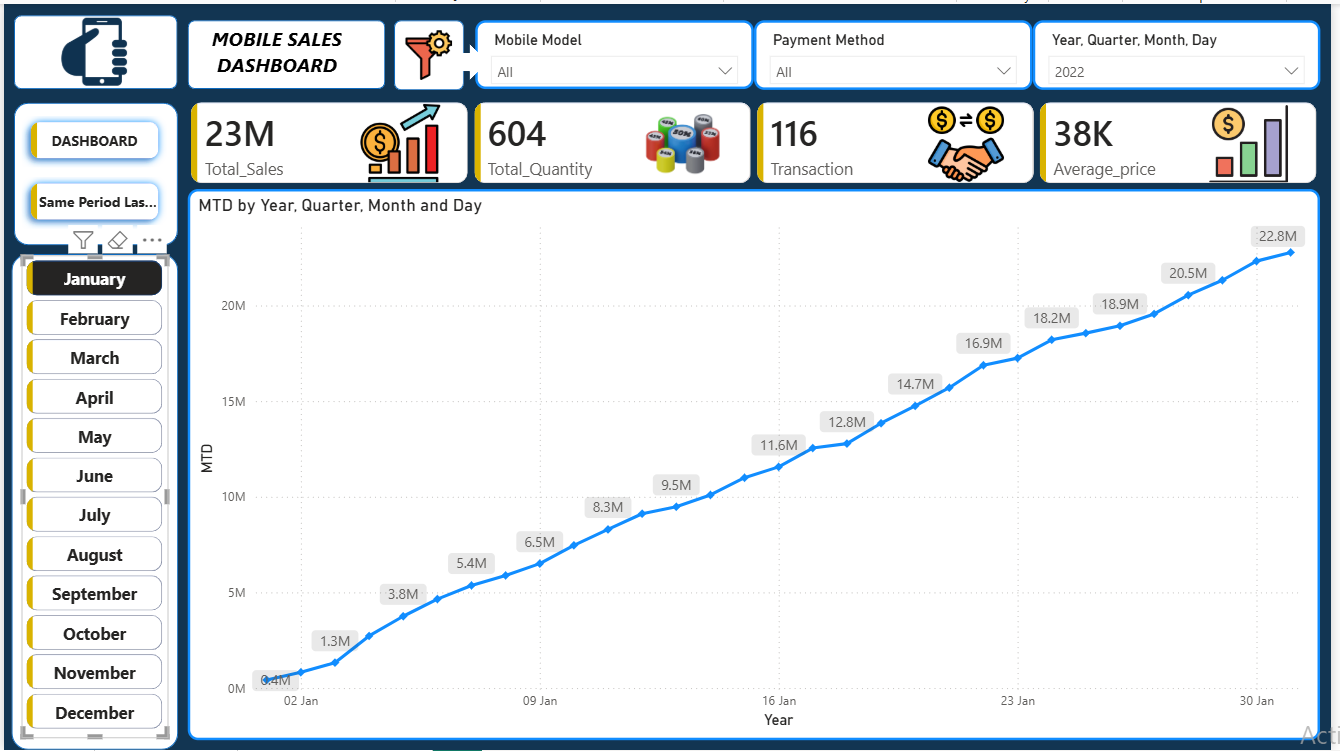

The page's visual inventory and layout, read from the dashboard file:
{"tool":"powerbi","page":{"name":"MTD REPORT","canvas":[1280,720],"ordinal":1},"visuals":[{"type":"shape","box":[9.6,11,157.8,71.4],"z":0},{"type":"image","box":[52.1,13.7,70,65.9],"z":1000},{"type":"shape","box":[9.6,94.9,158.1,137.5],"z":2000},{"type":"cardVisual","fields":{"Data":["Mobile_Sales_Data.Total_Sales","Mobile_Sales_Data.Total_Quantity","Mobile_Sales_Data.Transaction","Mobile_Sales_Data.Average_price"]},"box":[167.7,82,1112.3,105],"z":5000},{"type":"slicer","fields":{"Values":["Mobile_Sales_Data.Mobile Model"]},"box":[454.8,15.7,269,66.4],"z":6000},{"type":"slicer","fields":{"Values":["Mobile_Sales_Data.Payment Method"]},"box":[723.9,15.7,269,67.6],"z":7000},{"type":"slicer","fields":{"Values":["custom_calender.Date.Variation.Date Hierarchy.Year","custom_calender.Date.Variation.Date Hierarchy.Quarter","custom_calender.Date.Variation.Date Hierarchy.Month","custom_calender.Date.Variation.Date Hierarchy.Day"]},"box":[992.9,15.7,277.5,67.6],"z":8000},{"type":"shape","box":[376.4,15.7,67.6,67.6],"z":9000},{"type":"image","box":[376.4,25.3,67.6,48.3],"z":10000},{"type":"shape","box":[428.3,38.6,38.6,35],"z":11000},{"type":"shape","box":[177.3,15.7,190.6,66.4],"z":12000},{"type":"textbox","box":[195.4,15.7,172.5,63.9],"z":13000},{"type":"lineChart","fields":{"Category":["custom_calender.Date.Variation.Date Hierarchy.Year","custom_calender.Date.Variation.Date Hierarchy.Quarter","custom_calender.Date.Variation.Date Hierarchy.Month","custom_calender.Date.Variation.Date Hierarchy.Day"],"Y":["Mobile_Sales_Data.MTD"]},"box":[177.3,178.6,1093,532],"z":13001},{"type":"shape","box":[6.9,241.4,160.9,478.6],"z":13002},{"type":"advancedSlicerVisual","fields":{"Values":["custom_calender.Date.Variation.Date Hierarchy.Month"]},"box":[16.5,242,141.6,466.2],"z":13003},{"type":"pageNavigator","box":[16.9,105,141.2,112.2],"z":13004}]}

Visuals, with their boxes in screenshot pixels (x1, y1, x2, y2), scaled from the page's 1280x720 canvas onto the 1340x751 screenshot:
shape: select_region(10, 11, 175, 86)
image: select_region(55, 14, 128, 83)
shape: select_region(10, 99, 176, 242)
cardVisual - Mobile_Sales_Data.Total_Sales x Mobile_Sales_Data.Total_Quantity: select_region(176, 86, 1339, 195)
slicer - Mobile_Sales_Data.Mobile Model: select_region(476, 16, 758, 86)
slicer - Mobile_Sales_Data.Payment Method: select_region(758, 16, 1039, 87)
slicer - custom_calender.Date.Variation.Date Hierarchy.Year x custom_calender.Date.Variation.Date Hierarchy.Quarter: select_region(1039, 16, 1330, 87)
shape: select_region(394, 16, 465, 87)
image: select_region(394, 26, 465, 77)
shape: select_region(448, 40, 489, 77)
shape: select_region(186, 16, 385, 86)
textbox: select_region(205, 16, 385, 83)
lineChart - custom_calender.Date.Variation.Date Hierarchy.Year x custom_calender.Date.Variation.Date Hierarchy.Quarter: select_region(186, 186, 1330, 741)
shape: select_region(7, 252, 176, 750)
advancedSlicerVisual - custom_calender.Date.Variation.Date Hierarchy.Month: select_region(17, 252, 166, 739)
pageNavigator: select_region(18, 110, 166, 227)
